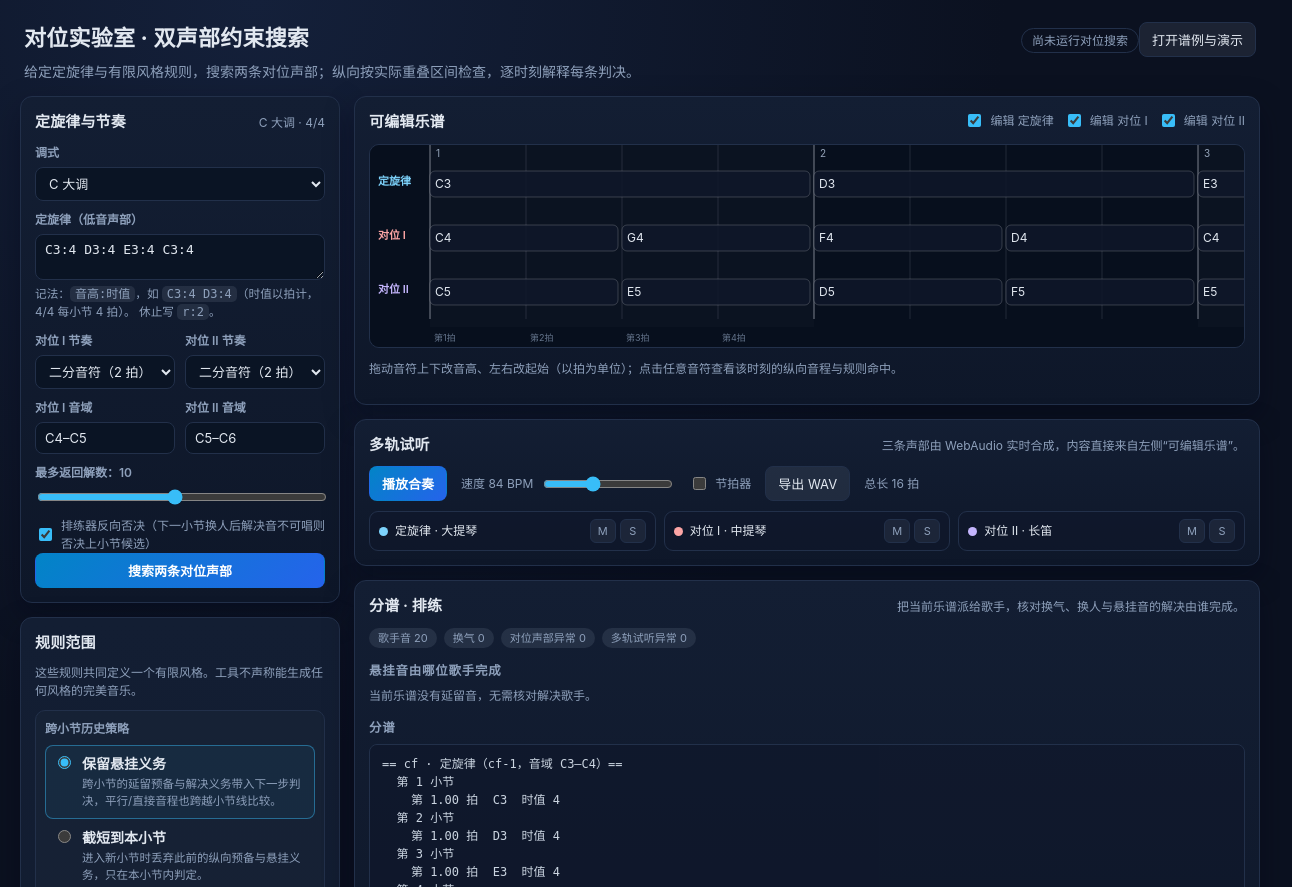
Test: App · counterpoint search stays inside the arrangement UI › runs search from the UI button and keeps voices plus multi-track audition visible
Check: the text "尚未运行对位搜索" is shown, box [1021,28,1139,53]
Check: the element named "多轨试听" is shown, box [369,466,1245,551]
Click the button "搜索两条对位声部": (180, 570) [35,552,325,588]
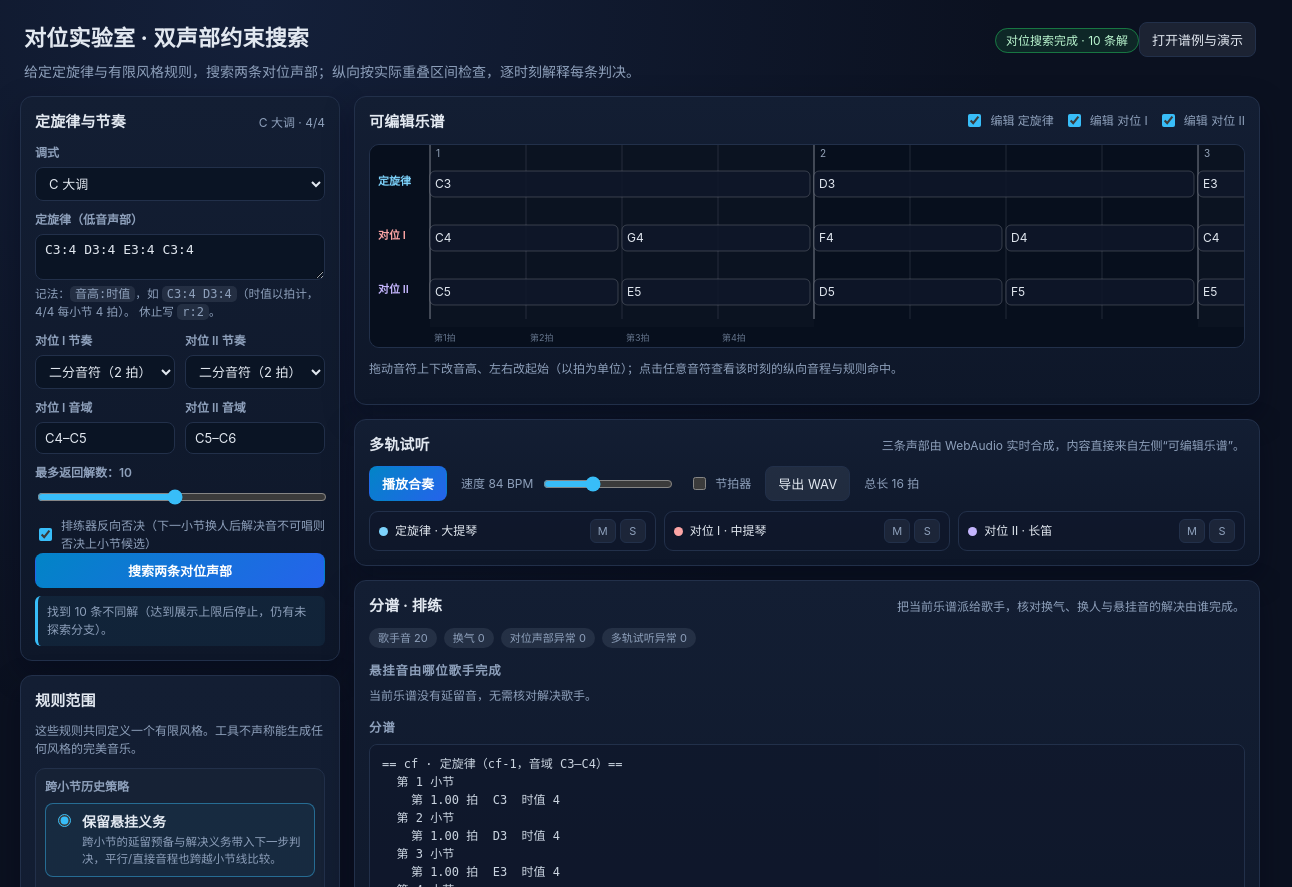
Check: the button "播放合奏" is shown, box [369,466,447,501]
Check: the text "对位搜索完成 · 10 条解" is shown, box [995,28,1139,53]
